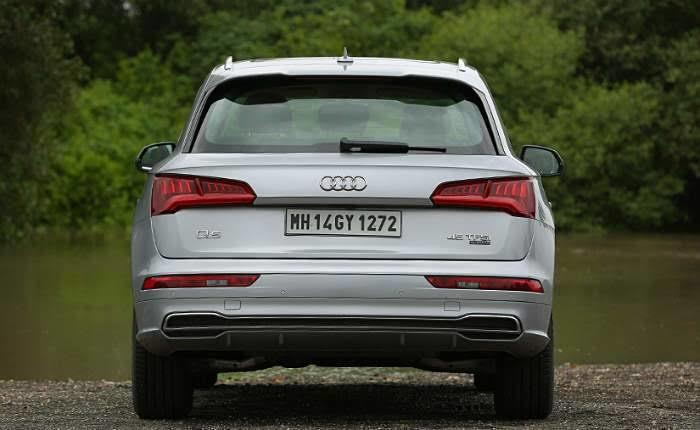audi: (119, 45, 567, 416)
